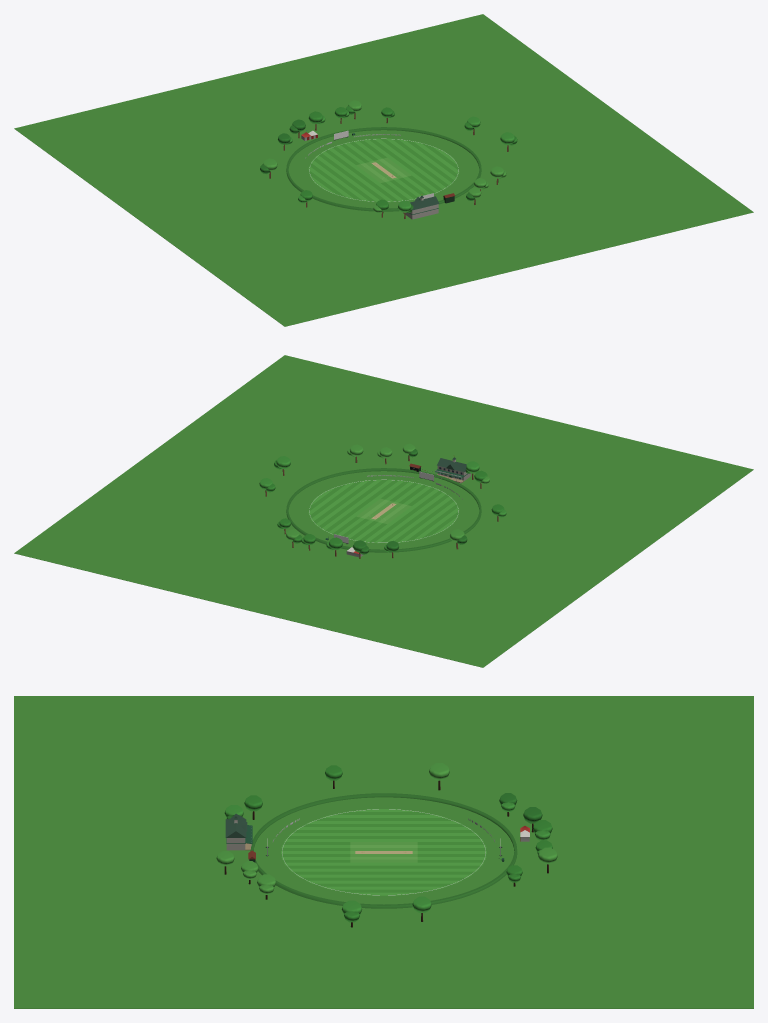
The model's file is ground-cricket-Vrobi32W.glb.
3 renders of one model, top to bottom at view 1: azimuth 30°, elevation 25°; view 2: azimuth 150°, elevation 25°; view 3: azimuth 270°, elevation 25°, orthographic. The views are drawn at different scales.
Parts seen in each view (by area): view 1: arena; view 2: arena; view 3: arena.
Boxes of the visible parts, x1,y1,x2,y2 form: arena: (14, 14, 753, 326); arena: (14, 355, 753, 667); arena: (14, 696, 753, 1008).
Bounding box in the file's own units: 320 × 13.1 × 320.
